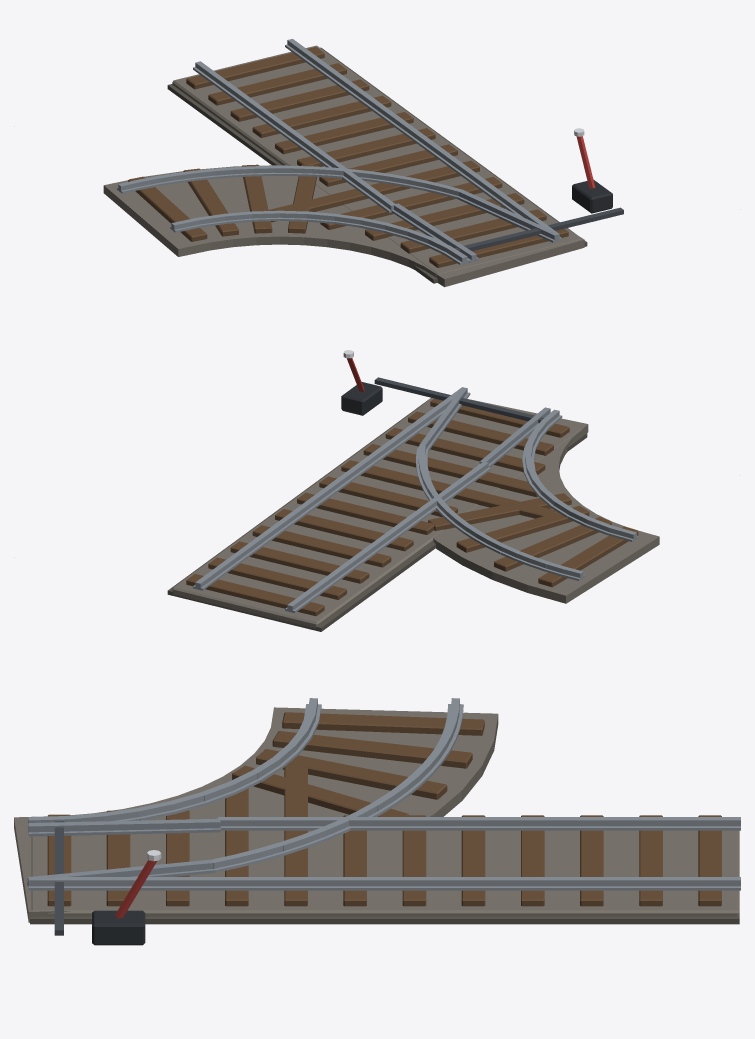
The model's file is rail_aiguillage_g_devie.glb.
3 views of the same model, one above another, from view 1: azimuth 30°, elevation 25°; view 2: azimuth 150°, elevation 25°; view 3: azimuth 270°, elevation 25° (orthographic). The views are drawn at different scales.
Visible parts, largest first — view 1: rail_ballast.016, rail_traverse.018, rail_rail.018, rail_acier.008, rail_ballast_sombre.010, rail_acier_sombre.008, rail_fonte.008; view 2: rail_ballast.016, rail_traverse.018, rail_rail.018, rail_ballast_sombre.010, rail_acier.008, rail_acier_sombre.008, rail_fonte.008; view 3: rail_ballast.016, rail_traverse.018, rail_rail.018, rail_ballast_sombre.010, rail_acier.008, rail_fonte.008, rail_acier_sombre.008, rail_rouge.008.
Part boxes in pixels (box(x1,y1,x2,y2)): rail_ballast.016: box(103, 45, 584, 287); rail_traverse.018: box(128, 47, 568, 267); rail_rail.018: box(117, 39, 561, 264); rail_acier.008: box(391, 190, 560, 262); rail_ballast_sombre.010: box(167, 47, 587, 283); rail_acier_sombre.008: box(454, 207, 623, 251); rail_fonte.008: box(572, 179, 612, 213); rail_ballast.016: box(172, 398, 659, 628); rail_traverse.018: box(186, 398, 638, 616); rail_rail.018: box(193, 387, 638, 613); rail_ballast_sombre.010: box(167, 399, 587, 631); rail_acier.008: box(417, 387, 550, 467); rail_acier_sombre.008: box(374, 377, 543, 422); rail_fonte.008: box(341, 382, 382, 415); rail_ballast.016: box(14, 707, 739, 922); rail_traverse.018: box(47, 712, 721, 906); rail_rail.018: box(28, 698, 740, 890); rail_ballast_sombre.010: box(30, 916, 739, 924); rail_acier.008: box(27, 818, 220, 890); rail_fonte.008: box(92, 910, 145, 945); rail_acier_sombre.008: box(54, 821, 63, 935); rail_rouge.008: box(115, 860, 156, 918).
Bounding box in the file's own units: 3.07 × 0.452 × 3.07.
